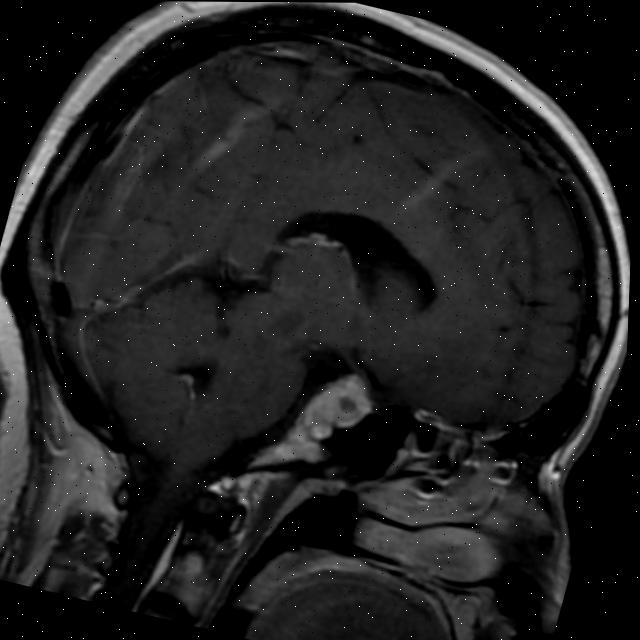Pituitary: (290, 361, 381, 450)
